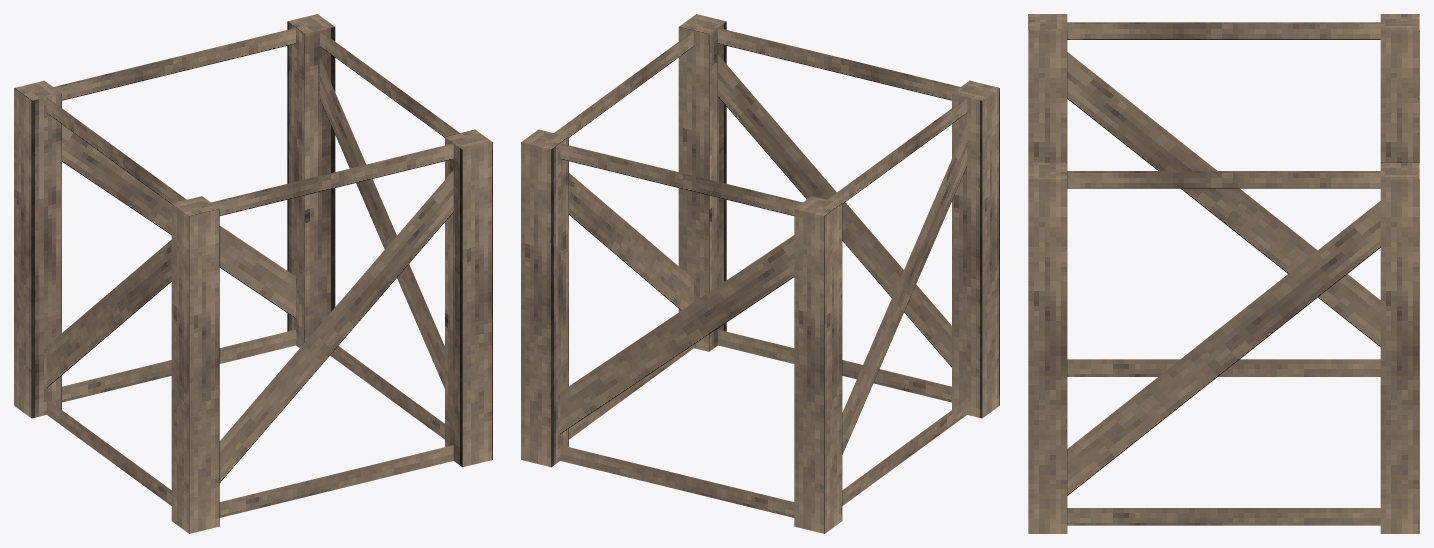
The model's file is structure-cross.glb.
3 views of the same model, side by side, from view 1: azimuth 30°, elevation 25°; view 2: azimuth 150°, elevation 25°; view 3: azimuth 270°, elevation 25° (orthographic). The views are drawn at different scales.
Visible parts, largest first — view 1: structure-cross; view 2: structure-cross; view 3: structure-cross.
Boxes of the visible parts, <box> form: structure-cross: <box>14,14,492,533</box>; structure-cross: <box>521,14,999,533</box>; structure-cross: <box>1028,14,1419,533</box>.
Bounding box in the file's own units: 1 × 1 × 1.
1 material, 1 textured.
